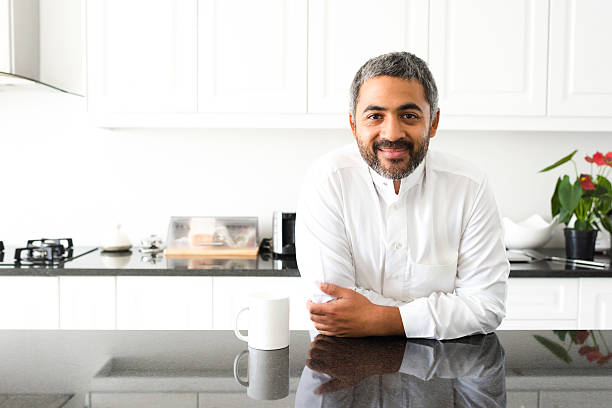person: (347, 50, 439, 180)
